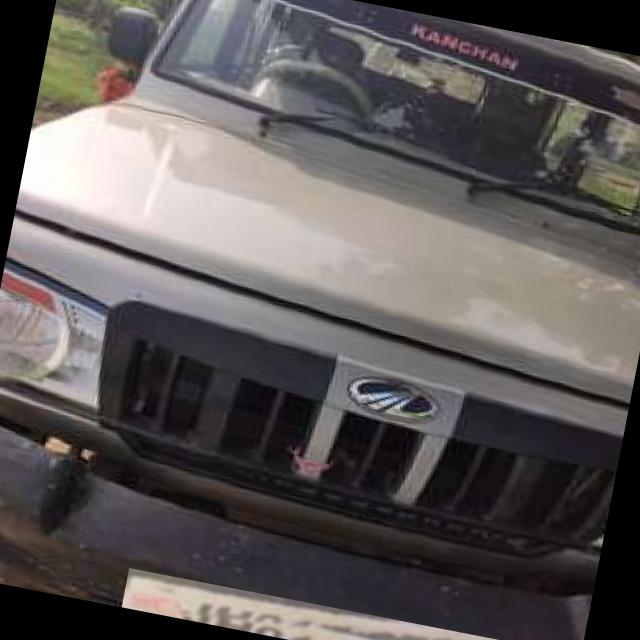Plate: (122, 569, 513, 640)
